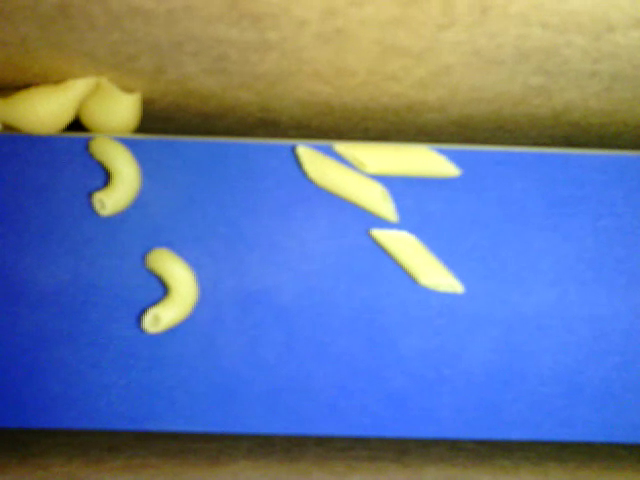elbow: (138, 244, 197, 337), (90, 136, 142, 216)
penne: (298, 141, 403, 226), (363, 229, 465, 295), (334, 140, 463, 181)
shell: (1, 71, 103, 129), (78, 73, 146, 133)
